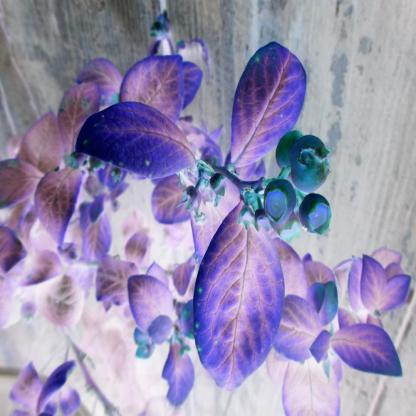blueberry leaf: (192, 204, 285, 410), (66, 95, 201, 182), (230, 42, 317, 176), (331, 315, 411, 393), (36, 161, 92, 258), (357, 251, 414, 326), (122, 275, 180, 337)
